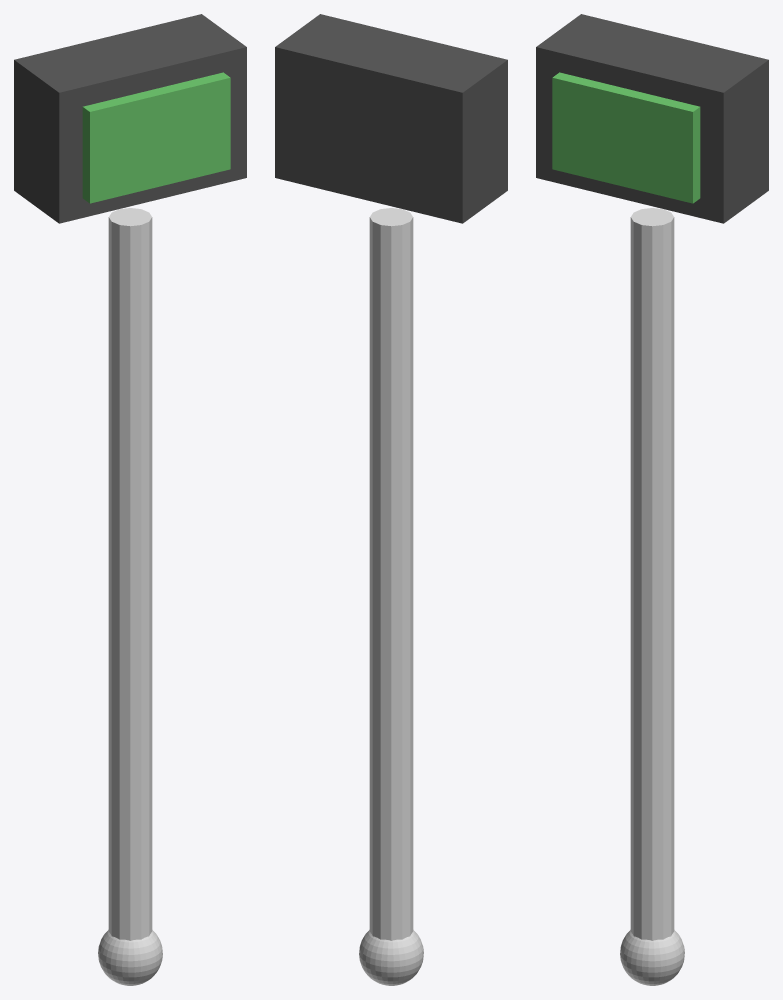
File: thermometer.glb
The picture shows the model from 3 angles, left to right: view 1: azimuth 30°, elevation 25°; view 2: azimuth 150°, elevation 25°; view 3: azimuth 330°, elevation 25°; orthographic projection.
Visible parts, largest first — view 1: Thermometer_Shaft, Thermometer_Head, Thermometer_Display, Thermometer_Tip; view 2: Thermometer_Head, Thermometer_Shaft, Thermometer_Tip; view 3: Thermometer_Shaft, Thermometer_Head, Thermometer_Display, Thermometer_Tip.
Part boxes in pixels (x1,y1,x2,y2): Thermometer_Shaft: (108, 208, 152, 940); Thermometer_Head: (14, 14, 246, 223); Thermometer_Display: (82, 72, 230, 203); Thermometer_Tip: (98, 930, 162, 985); Thermometer_Head: (275, 14, 507, 223); Thermometer_Shaft: (369, 208, 413, 940); Thermometer_Tip: (359, 930, 423, 985); Thermometer_Shaft: (630, 208, 674, 940); Thermometer_Head: (536, 14, 768, 223); Thermometer_Display: (552, 72, 700, 203); Thermometer_Tip: (620, 930, 684, 985).
Size of the model in its own units: 0.06 by 0.284 by 0.029.
